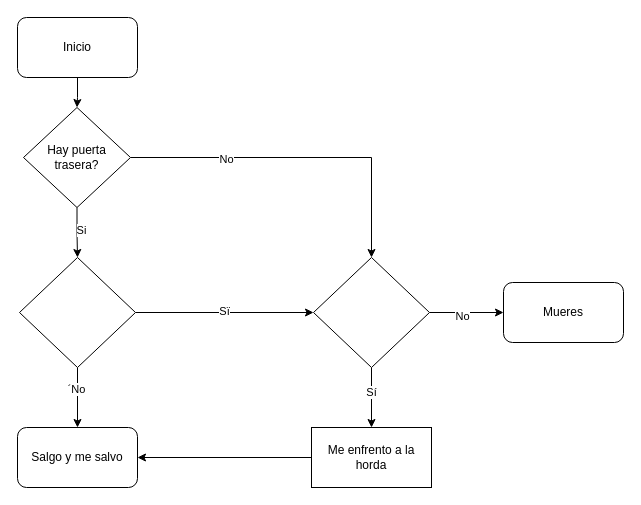
Some shapes in this 641 by 505 pixel diagram are drawn without their labels. Here are the shapes that lost their labels. From the top down, the box of each, then its label:
(18, 256, 136, 368): Está llena de zombies?
(312, 256, 430, 368): Tienes armas?
